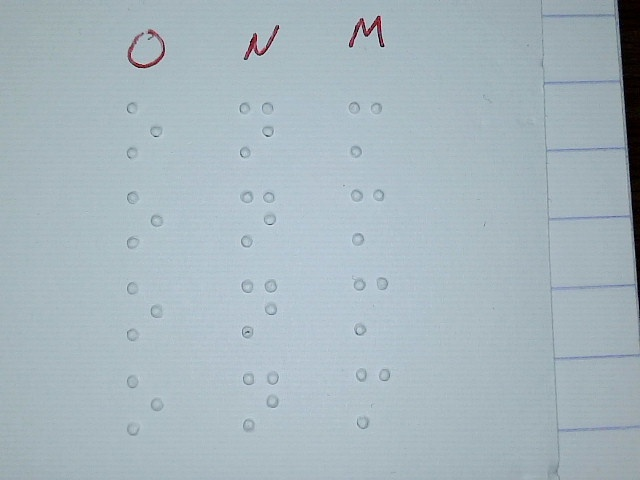M: (351, 275, 391, 337), (353, 366, 393, 428), (345, 99, 385, 158), (347, 187, 387, 246)
N: (241, 369, 281, 432), (237, 100, 277, 159), (238, 189, 278, 248), (239, 278, 279, 337)
O: (125, 280, 165, 341), (125, 374, 165, 435), (124, 101, 164, 160), (125, 190, 165, 249)
